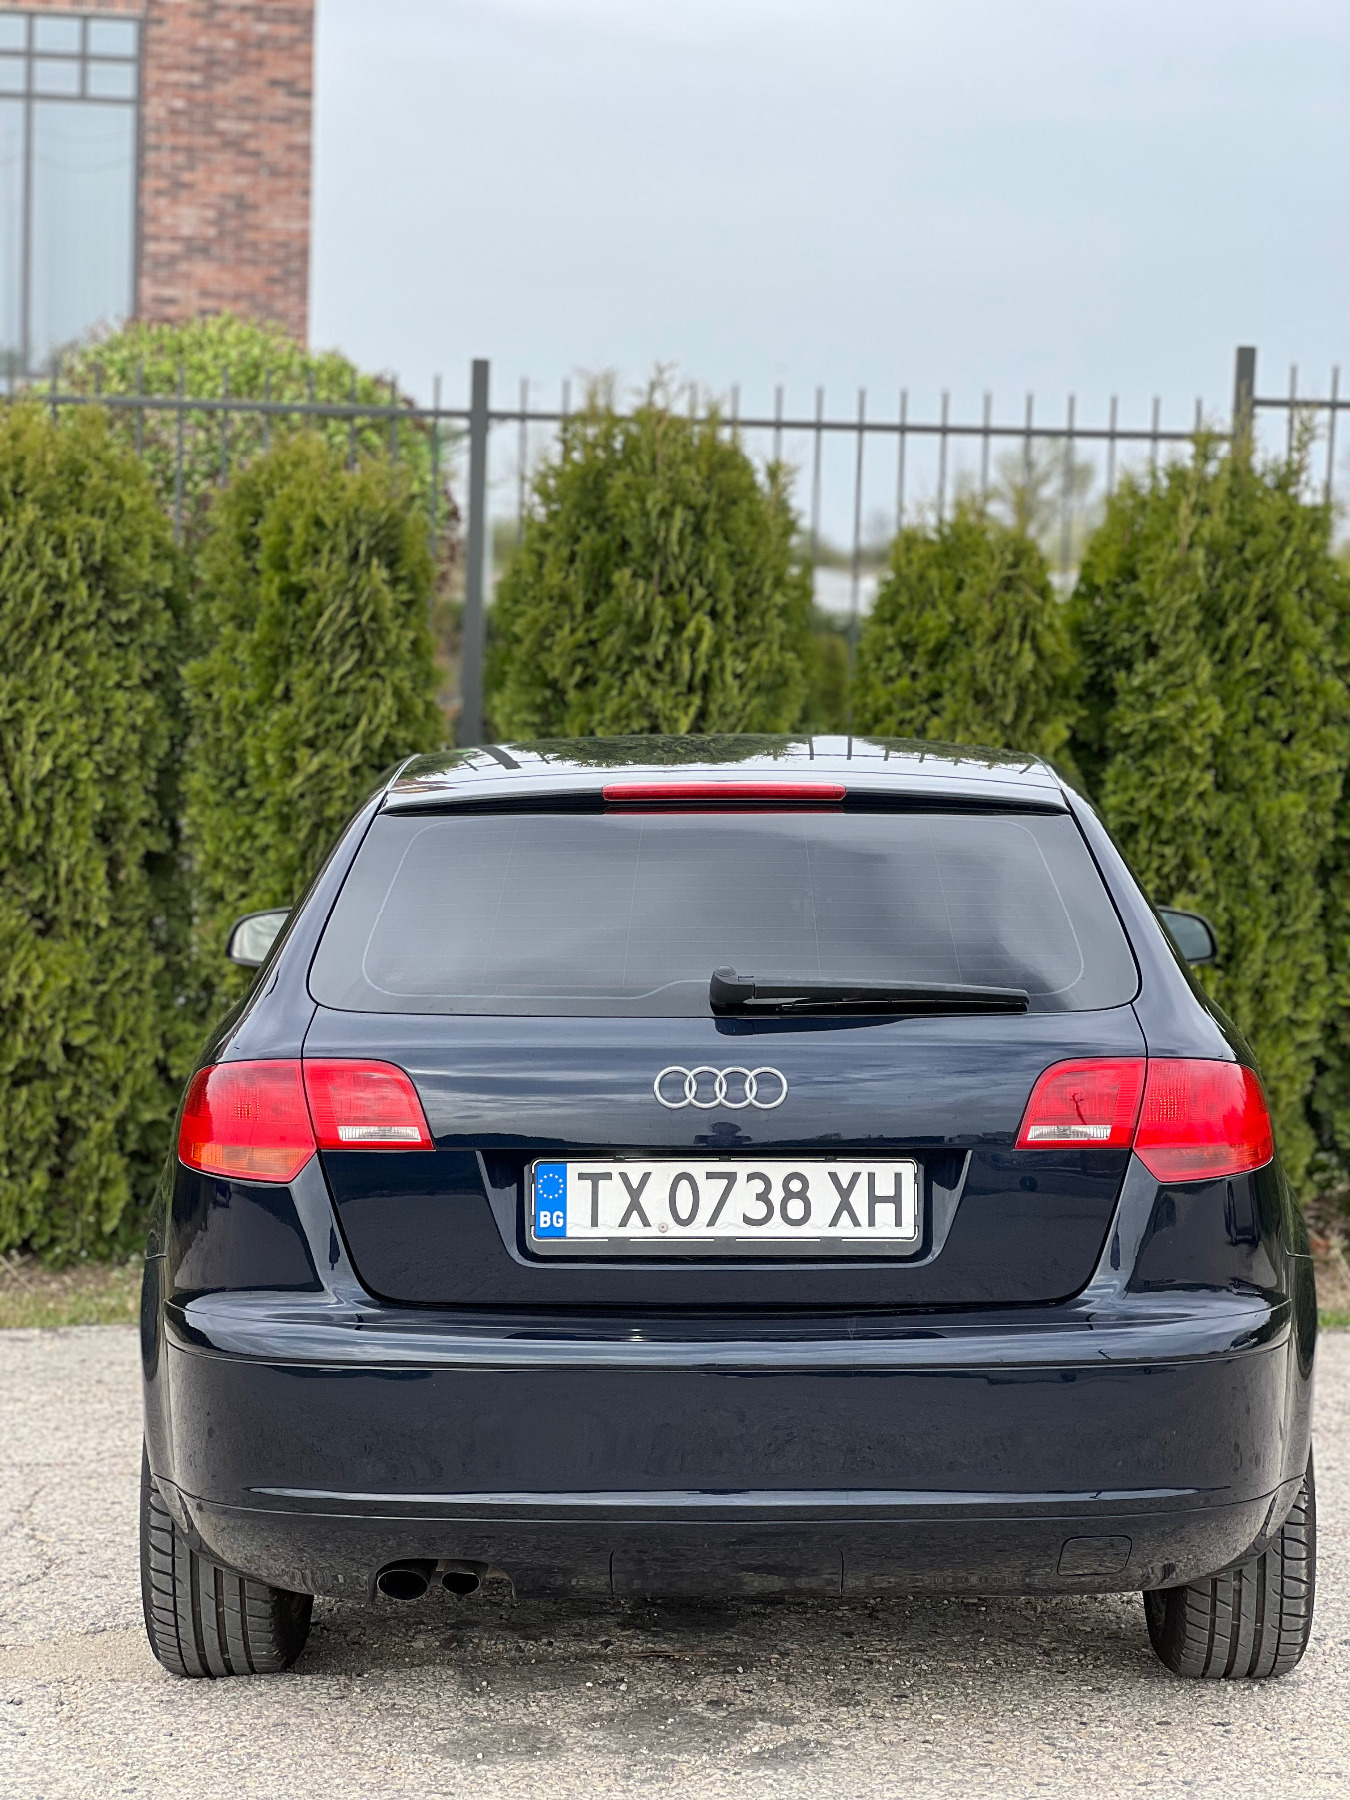registration_plate: (523, 1150, 934, 1258)
